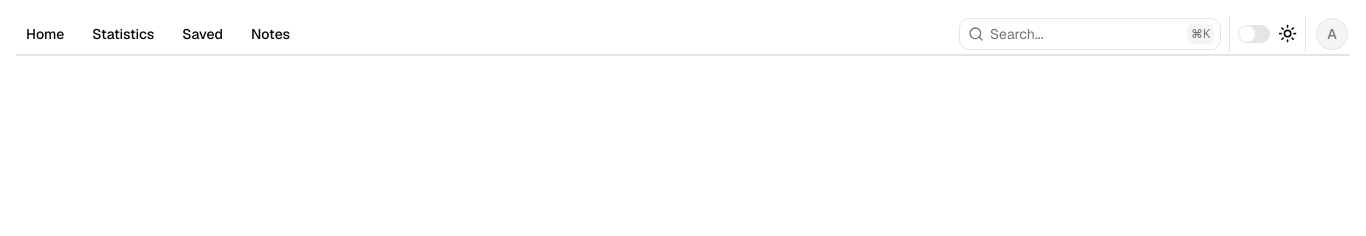
Test: NavBar Integration Tests › should show Admin link only if user has admin privileges
The image size is (1366, 236).
Click the button "A" at (1332, 34), box [1314, 16, 1350, 52]
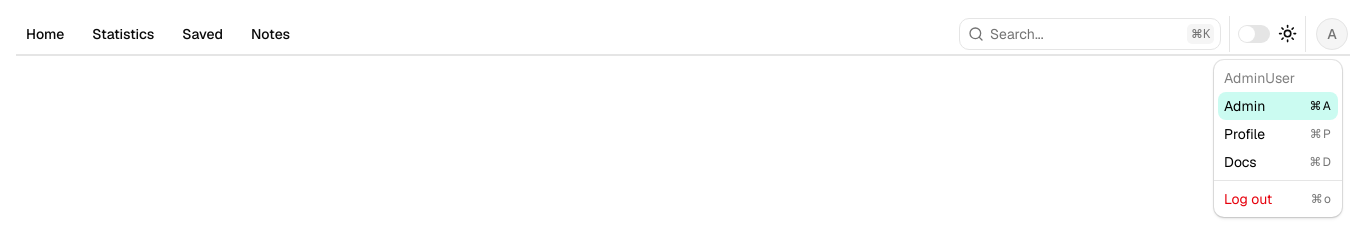
Expected: the link "Admin ⌘A" is shown, [1224, 96, 1332, 116]
